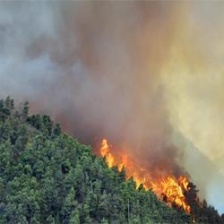fire: (101, 136, 194, 214)
smoke: (1, 1, 202, 125)
